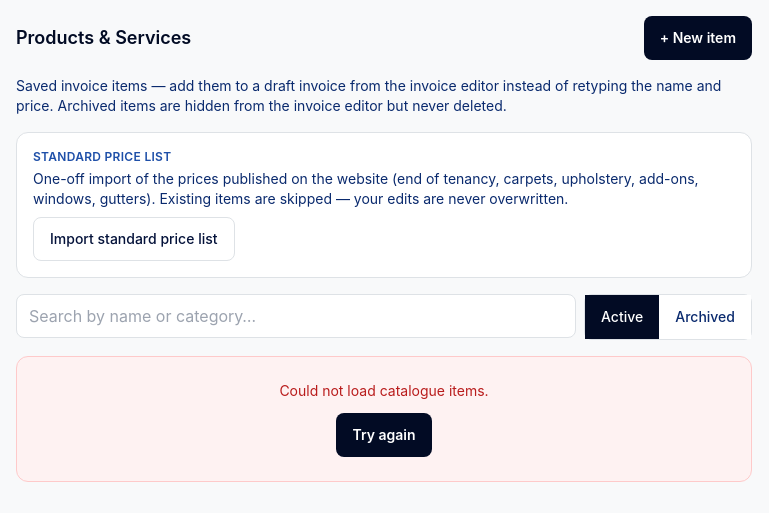
Test case: CatalogueListPage request recovery › retries a failed list request and shows the recovered result
Click the button "Try again" at (384, 435), box x1=336 y1=413 x2=432 y2=457
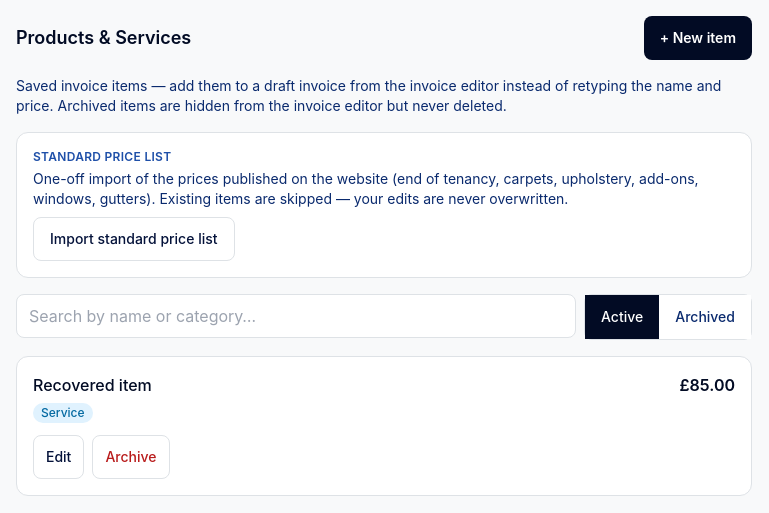
Now the text "Recovered item" is shown, box x1=33 y1=373 x2=152 y2=397
